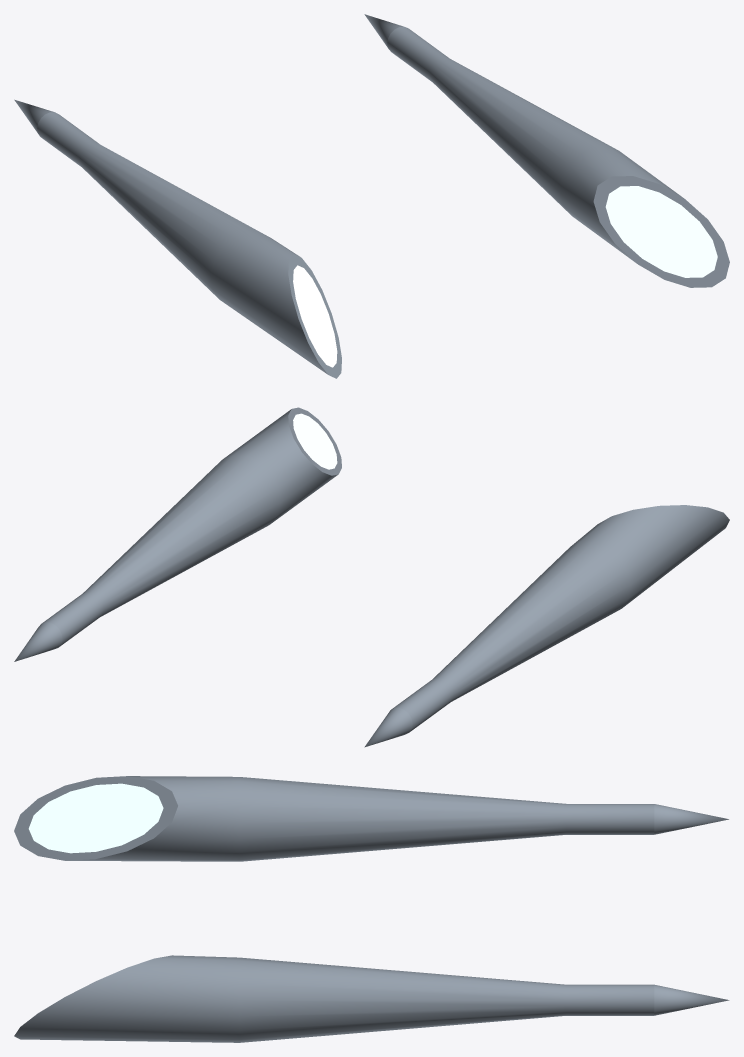
File: RobotTeleporter.fbx
3 renders of one model, top to bottom at view 1: azimuth 30°, elevation 25°; view 2: azimuth 150°, elevation 25°; view 3: azimuth 270°, elevation 25°, orthographic. The views are drawn at different scales.
Parts seen in each view (by area): view 1: Teleporter; view 2: Teleporter; view 3: Teleporter.
Part boxes in pixels (x1,y1,x2,y2): Teleporter: [14, 14, 729, 378]; Teleporter: [14, 407, 729, 747]; Teleporter: [14, 776, 729, 1042].
Size of the model in its own units: 5.86 by 0.9926 by 8.18.
